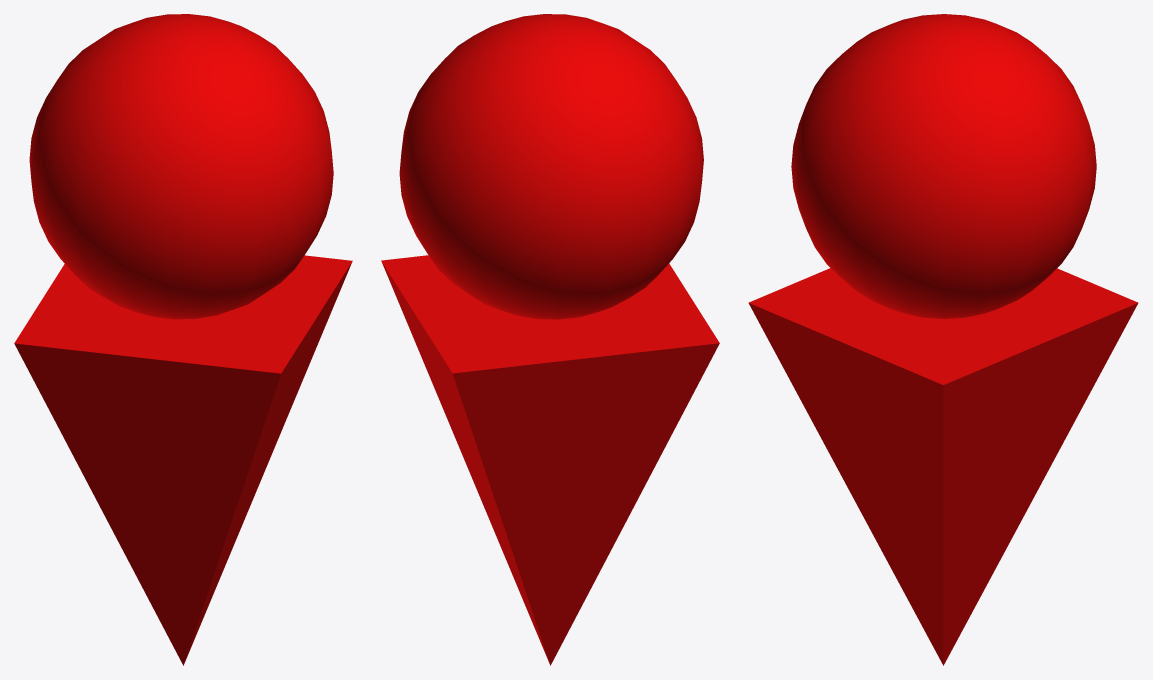
File: Designator2.fbx
3 renders of one model, left to right at view 1: azimuth 30°, elevation 25°; view 2: azimuth 150°, elevation 25°; view 3: azimuth 270°, elevation 25°, orthographic.
Parts seen in each view (by area): view 1: Designator2; view 2: Designator2; view 3: Designator2.
Part boxes in pixels (x1=…): Designator2: x1=14, y1=14, x2=352, y2=665; Designator2: x1=381, y1=14, x2=719, y2=665; Designator2: x1=748, y1=14, x2=1138, y2=665.
Bounding box in the file's own units: 0.0256 × 0.046 × 0.0256.
